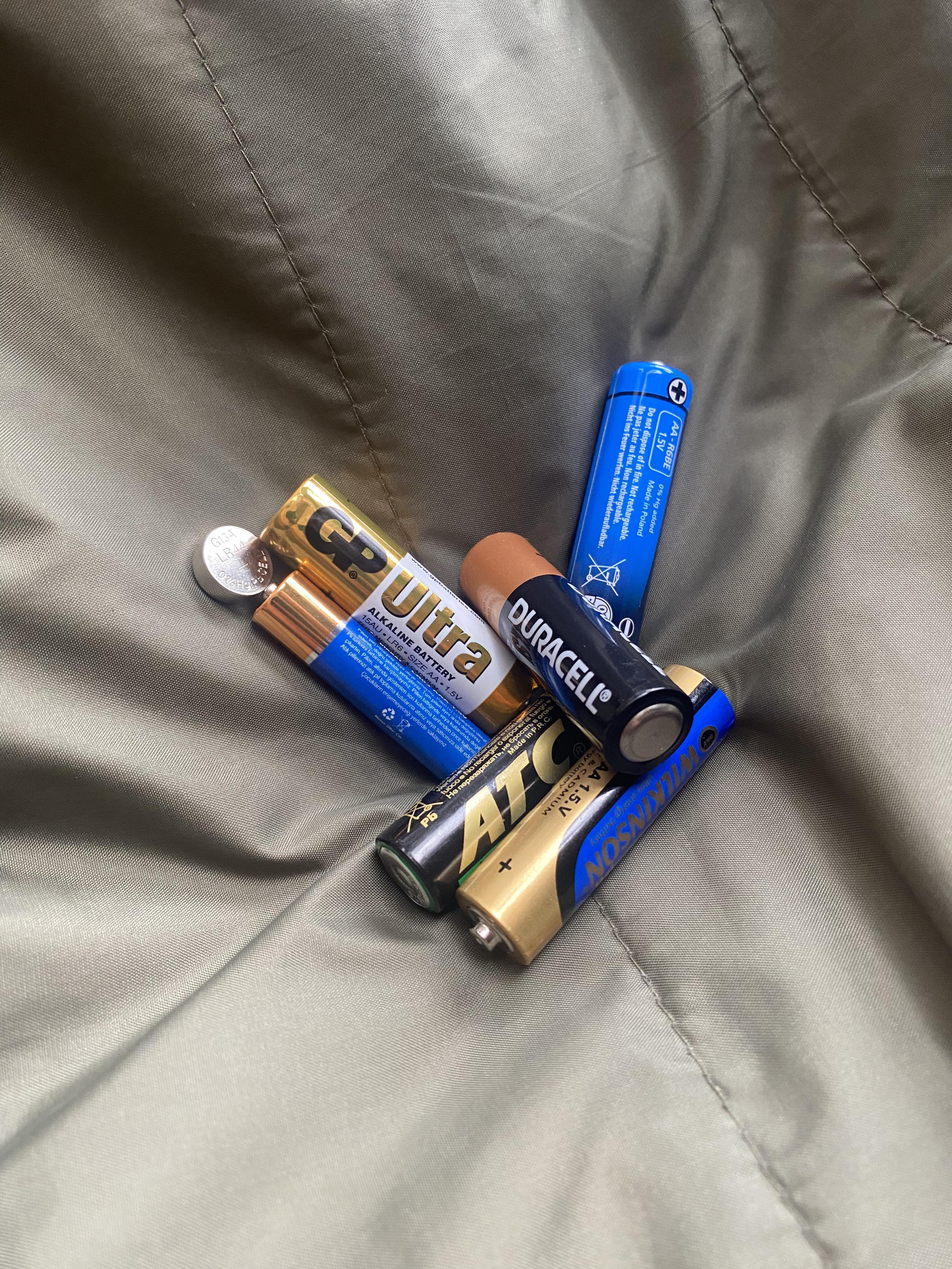AA: (453, 658, 743, 971), (255, 469, 545, 741), (455, 530, 695, 775), (372, 690, 592, 918), (568, 357, 698, 649)
AAA: (248, 567, 497, 785)
COIN: (190, 523, 277, 605)
